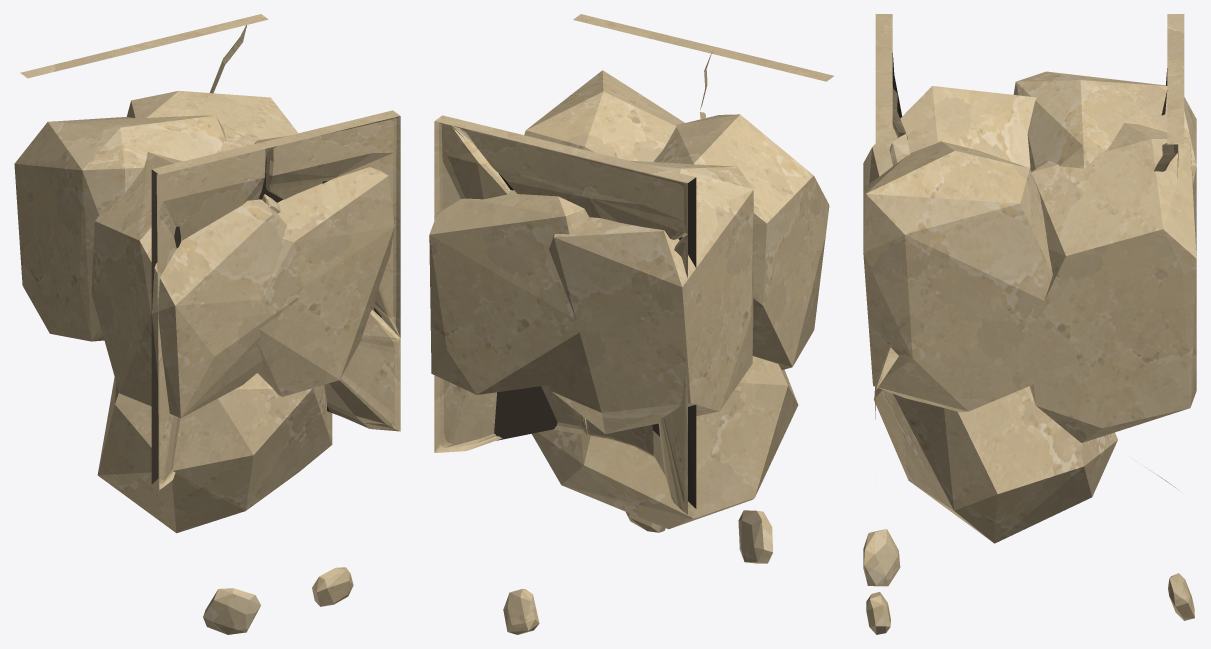
File: ground_bottom_strip_09.glb
3 renders of one model, left to right at view 1: azimuth 30°, elevation 25°; view 2: azimuth 150°, elevation 25°; view 3: azimuth 270°, elevation 25°, orthographic. The views are drawn at different scales.
Parts seen in each view (by area): view 1: GroundBottomStrip09_Body; view 2: GroundBottomStrip09_Body; view 3: GroundBottomStrip09_Body.
Part boxes in pixels (x1,y1,x2,y2): GroundBottomStrip09_Body: (14, 14, 400, 634); GroundBottomStrip09_Body: (429, 14, 833, 634); GroundBottomStrip09_Body: (863, 14, 1196, 634).
Bounding box in the file's own units: 1 × 1.9 × 1.08.
Materials: 8 (7 with a texture image).
